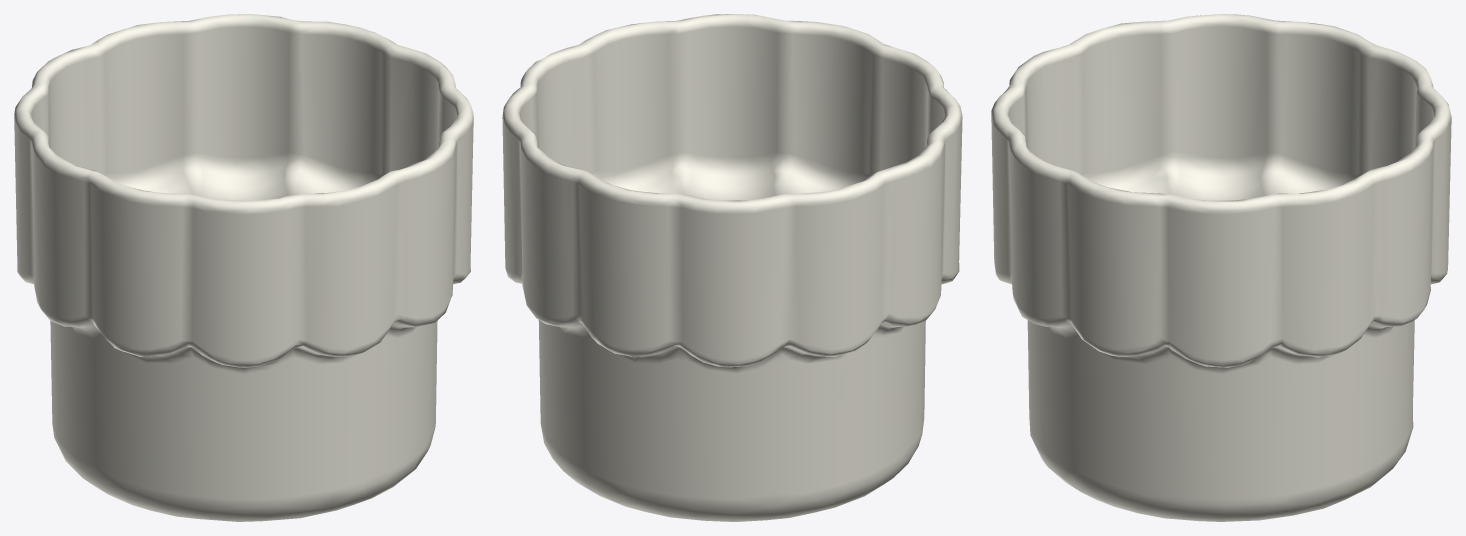
File: hangsalg_osonka_doniczki_50615077.glb
3 renders of one model, left to right at view 1: azimuth 30°, elevation 25°; view 2: azimuth 150°, elevation 25°; view 3: azimuth 270°, elevation 25°, orthographic.
Visible parts, largest first — view 1: hangsalg_osonka_doniczki_50615077; view 2: hangsalg_osonka_doniczki_50615077; view 3: hangsalg_osonka_doniczki_50615077.
Boxes of the visible parts, left/top/right/bottom form: hangsalg_osonka_doniczki_50615077: left=14, top=14, right=473, bottom=521; hangsalg_osonka_doniczki_50615077: left=502, top=14, right=962, bottom=521; hangsalg_osonka_doniczki_50615077: left=991, top=14, right=1451, bottom=521.
Size of the model in its own units: 0.1795 by 0.1485 by 0.1798.
1 material, 1 textured.
